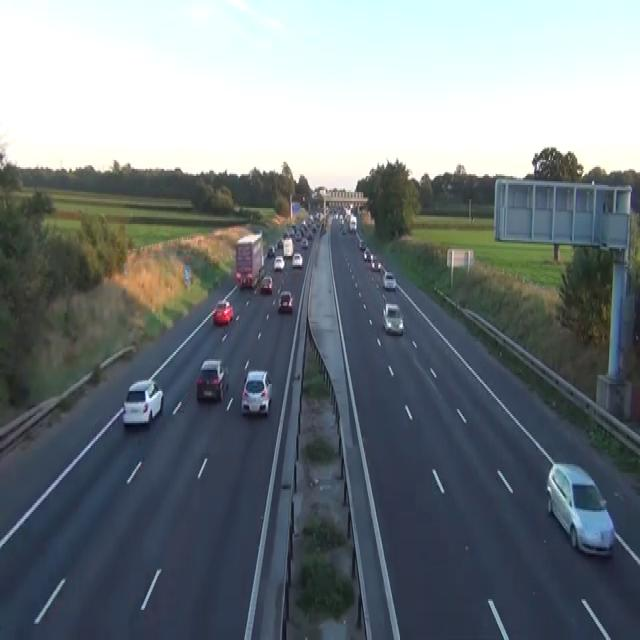Car: (546, 461, 615, 556), (122, 378, 163, 426), (240, 370, 272, 416), (196, 359, 228, 402), (382, 302, 404, 334), (212, 298, 233, 324), (277, 290, 293, 313), (382, 270, 396, 290), (259, 276, 272, 294), (273, 254, 285, 270), (240, 272, 252, 288), (291, 252, 303, 266), (371, 258, 381, 270), (363, 247, 371, 261), (267, 245, 275, 258), (258, 265, 265, 279), (300, 238, 308, 249), (358, 238, 365, 249), (340, 224, 347, 235), (295, 229, 301, 240), (235, 270, 241, 281), (277, 238, 283, 247), (369, 252, 374, 262)
Truck: (235, 231, 264, 288), (282, 236, 293, 256)
